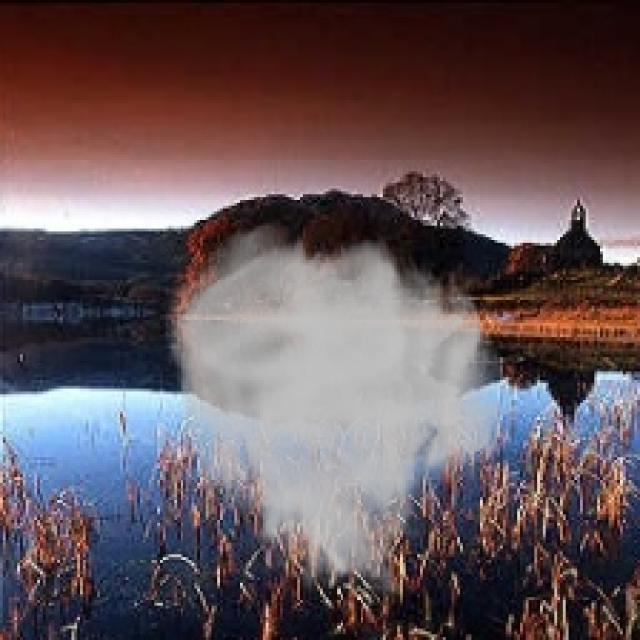smoke: (163, 220, 508, 603)
